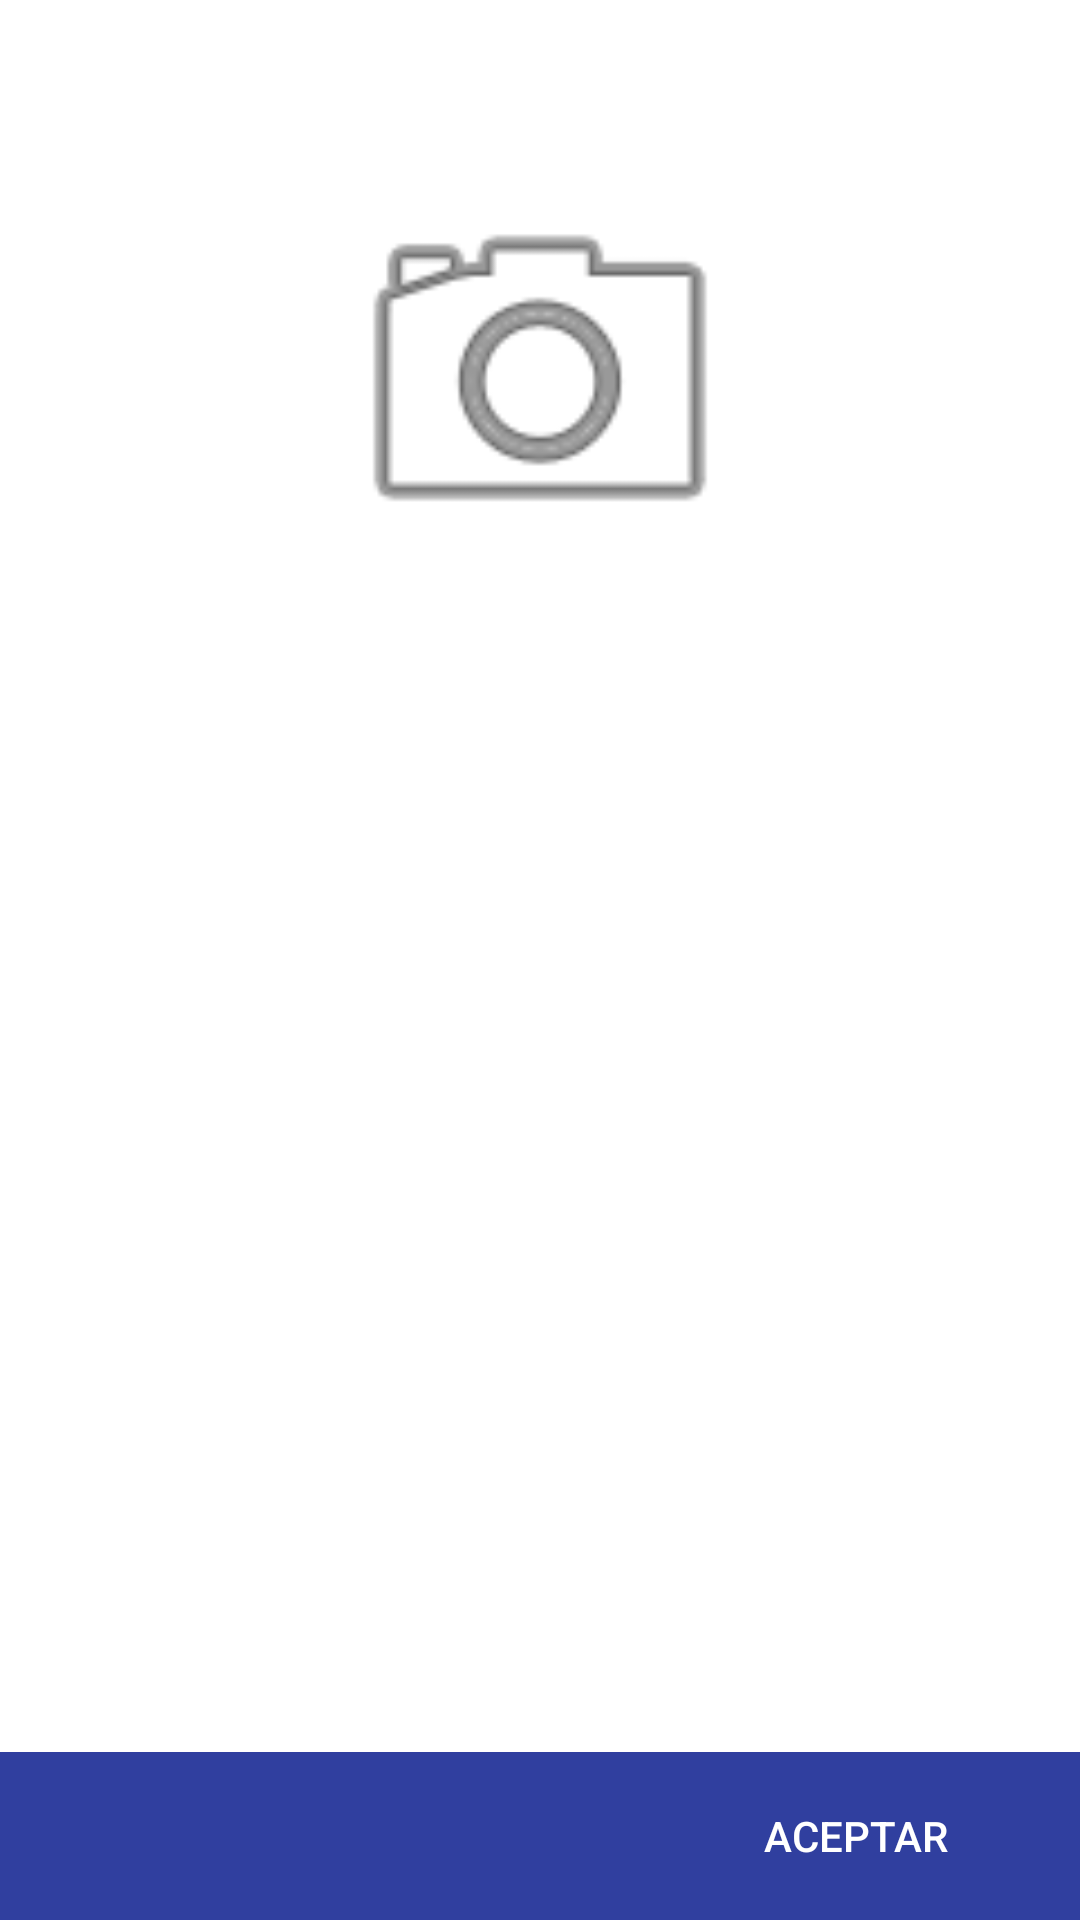

Icons on this 1080px x 1920px Android screen, each with its box as (x1, y1, x2, y2):
camera: (374, 235, 706, 500)
